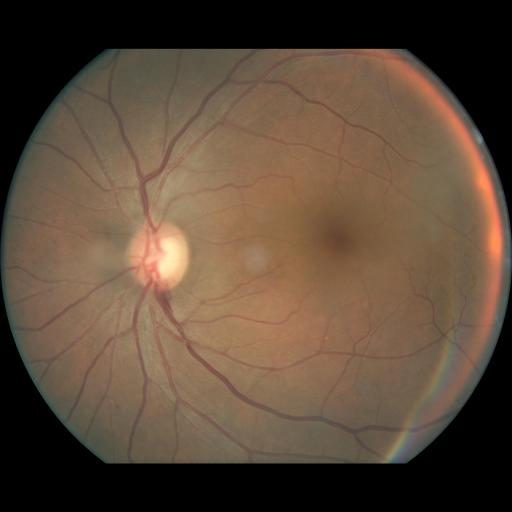Optic Cup: (147, 236, 182, 278)
Optic Disc: (128, 218, 189, 291)
